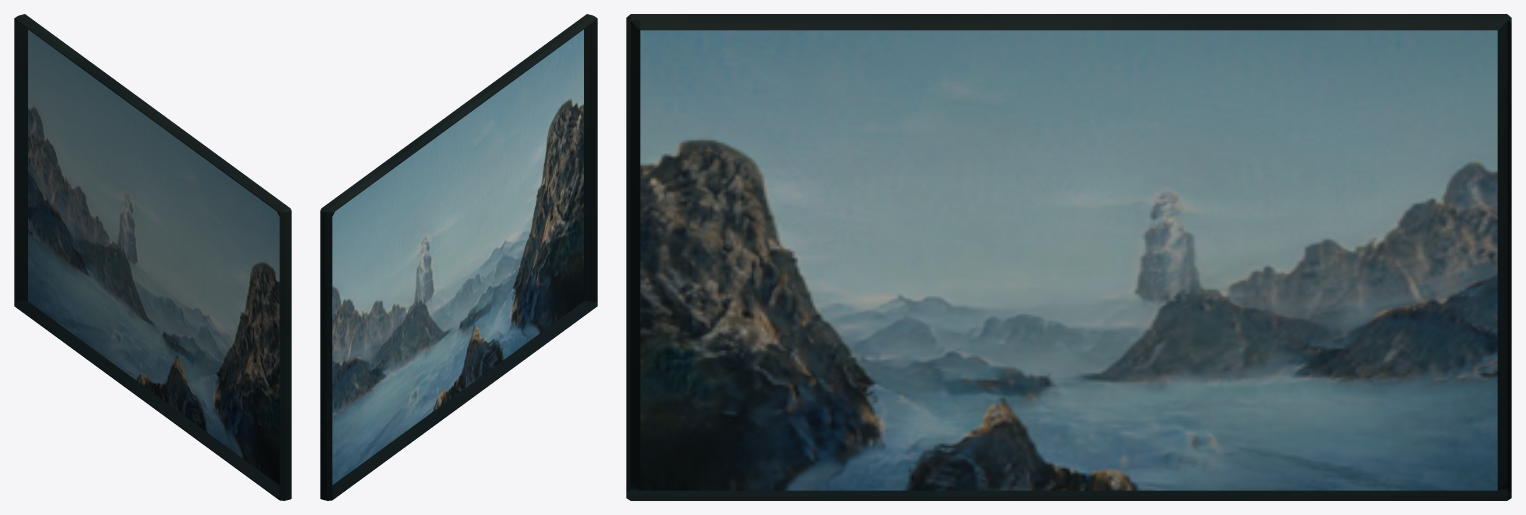
File: picture-landscape-2.fbx
3 renders of one model, left to right at view 1: azimuth 30°, elevation 25°; view 2: azimuth 150°, elevation 25°; view 3: azimuth 270°, elevation 25°, orthographic. The views are drawn at different scales.
Visible parts, largest first — view 1: landscape portrait 2; view 2: landscape portrait 2; view 3: landscape portrait 2.
Boxes of the visible parts, x1=… form: landscape portrait 2: x1=14, y1=14, x2=291, y2=500; landscape portrait 2: x1=320, y1=14, x2=597, y2=500; landscape portrait 2: x1=626, y1=14, x2=1511, y2=500.
Size of the model in its own units: 30.32 by 783 by 1306.
Materials: 1 (1 with a texture image).
